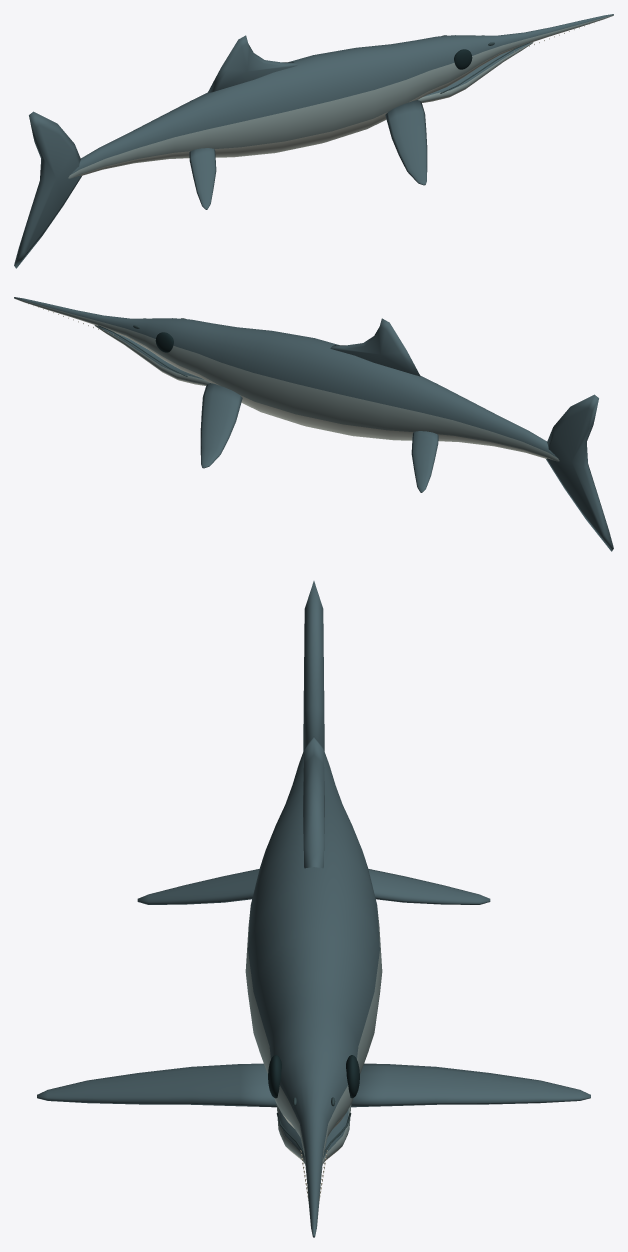
3 renders of one model, top to bottom at view 1: azimuth 30°, elevation 25°; view 2: azimuth 150°, elevation 25°; view 3: azimuth 270°, elevation 25°, orthographic. The views are drawn at different scales.
Parts seen in each view (by area): view 1: Continuous trunk skull and upper rostrum, Vertical caudal membrane with lower lobe support, Forepaddle near, Modest inferred dorsal fin, Hindpaddle near, Short connected mandible; view 2: Continuous trunk skull and upper rostrum, Vertical caudal membrane with lower lobe support, Forepaddle far, Modest inferred dorsal fin, Hindpaddle far, Short connected mandible; view 3: Continuous trunk skull and upper rostrum, Forepaddle far, Forepaddle near, Vertical caudal membrane with lower lobe support, Modest inferred dorsal fin, Hindpaddle far, Hindpaddle near, Short connected mandible, Bilateral external eyes.
Boxes of the visible parts, x1,y1,x2,y2 form: Continuous trunk skull and upper rostrum: [68, 14, 613, 178]; Vertical caudal membrane with lower lobe support: [14, 111, 81, 268]; Forepaddle near: [385, 100, 427, 185]; Modest inferred dorsal fin: [207, 35, 297, 93]; Hindpaddle near: [189, 148, 216, 209]; Short connected mandible: [418, 42, 533, 102]; Continuous trunk skull and upper rostrum: [14, 297, 559, 461]; Vertical caudal membrane with lower lobe support: [546, 394, 613, 551]; Forepaddle far: [200, 383, 242, 468]; Modest inferred dorsal fin: [330, 318, 420, 376]; Hindpaddle far: [411, 431, 438, 492]; Short connected mandible: [94, 325, 209, 385]; Continuous trunk skull and upper rostrum: [245, 750, 382, 1237]; Forepaddle far: [351, 1063, 590, 1107]; Forepaddle near: [37, 1063, 276, 1107]; Vertical caudal membrane with lower lobe support: [303, 581, 324, 750]; Modest inferred dorsal fin: [303, 736, 324, 868]; Hindpaddle far: [368, 869, 490, 904]; Hindpaddle near: [137, 869, 259, 904]; Short connected mandible: [276, 1104, 351, 1164]; Bilateral external eyes: [268, 1055, 359, 1098].
Bounding box in the file's own units: 3.85 × 1.09 × 1.54.
